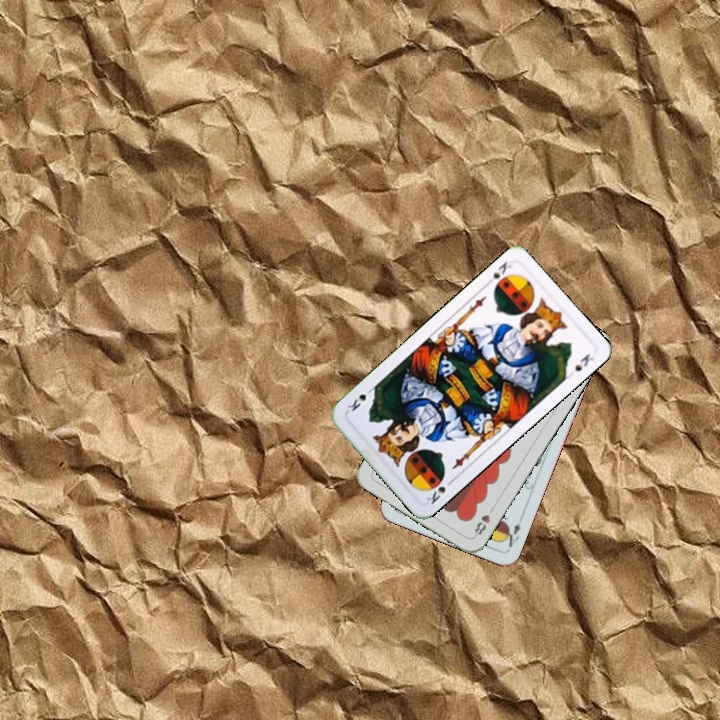EA: (499, 513, 525, 552)
H8: (470, 503, 497, 539)
SK: (481, 257, 515, 292), (423, 473, 456, 507)
